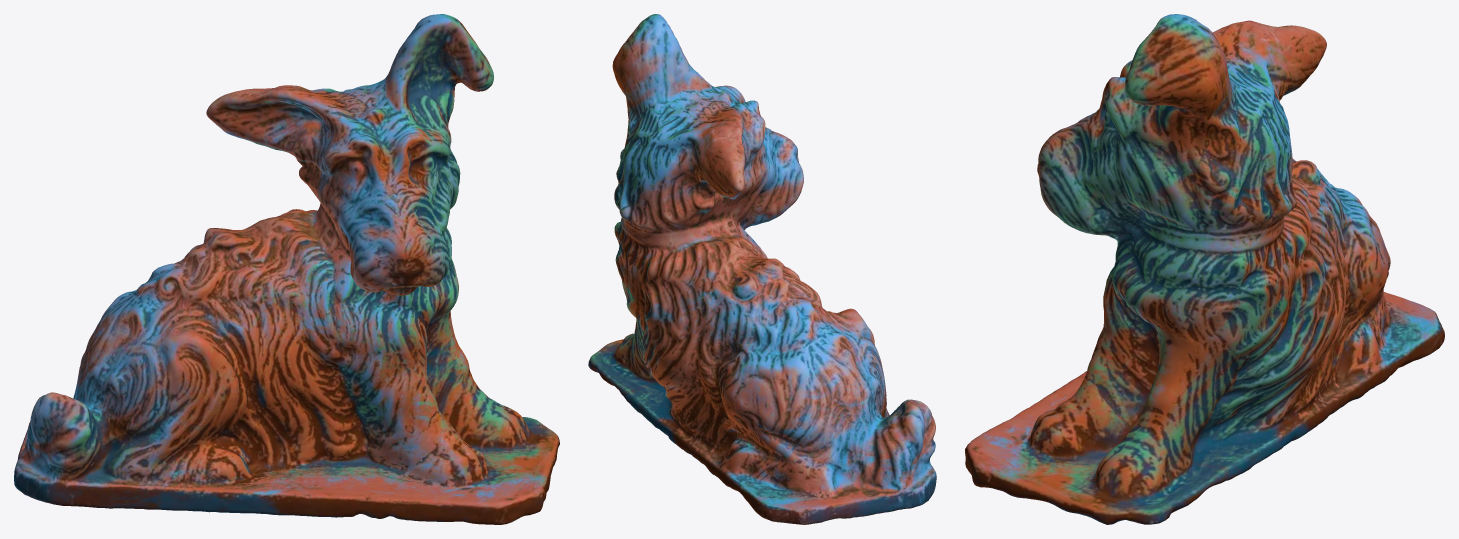
File: pop_dog-transformed.glb
3 renders of one model, left to right at view 1: azimuth 30°, elevation 25°; view 2: azimuth 150°, elevation 25°; view 3: azimuth 270°, elevation 25°, orthographic. The views are drawn at different scales.
Visible parts, largest first — view 1: defaultMaterial; view 2: defaultMaterial; view 3: defaultMaterial.
Boxes of the visible parts, x1=… form: defaultMaterial: x1=14, y1=14, x2=559, y2=524; defaultMaterial: x1=588, y1=14, x2=936, y2=524; defaultMaterial: x1=965, y1=14, x2=1444, y2=524.
Size of the model in its own units: 2.01 by 1.83 by 1.7.
Materials: 1 (1 with a texture image).
